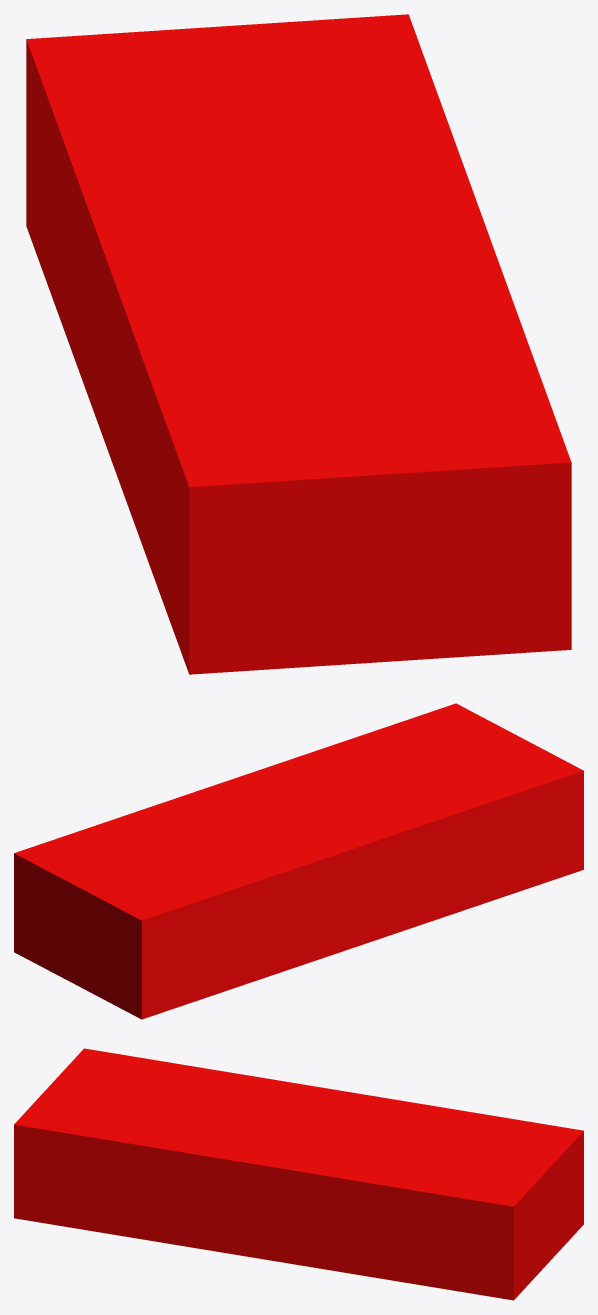
The model's file is BosquesdelasVictorias_Dummys_INV_Mz10.fbx.
3 renders of one model, top to bottom at view 1: azimuth 30°, elevation 25°; view 2: azimuth 150°, elevation 25°; view 3: azimuth 270°, elevation 25°, orthographic. The views are drawn at different scales.
Parts seen in each view (by area): view 1: Cube__11_; view 2: Cube__11_; view 3: Cube__11_.
Boxes of the visible parts, x1,y1,x2,y2 form: Cube__11_: [26, 14, 571, 674]; Cube__11_: [14, 703, 583, 1019]; Cube__11_: [14, 1048, 583, 1300].
Bounding box in the file's own units: 3493 × 964 × 5313.
